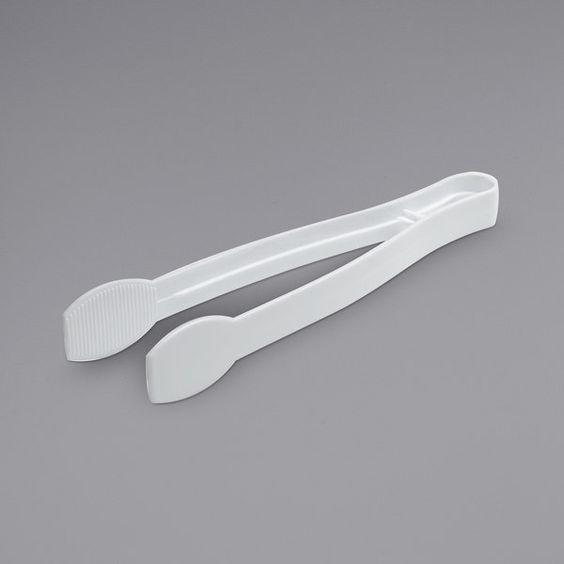PS: (45, 119, 564, 448)
